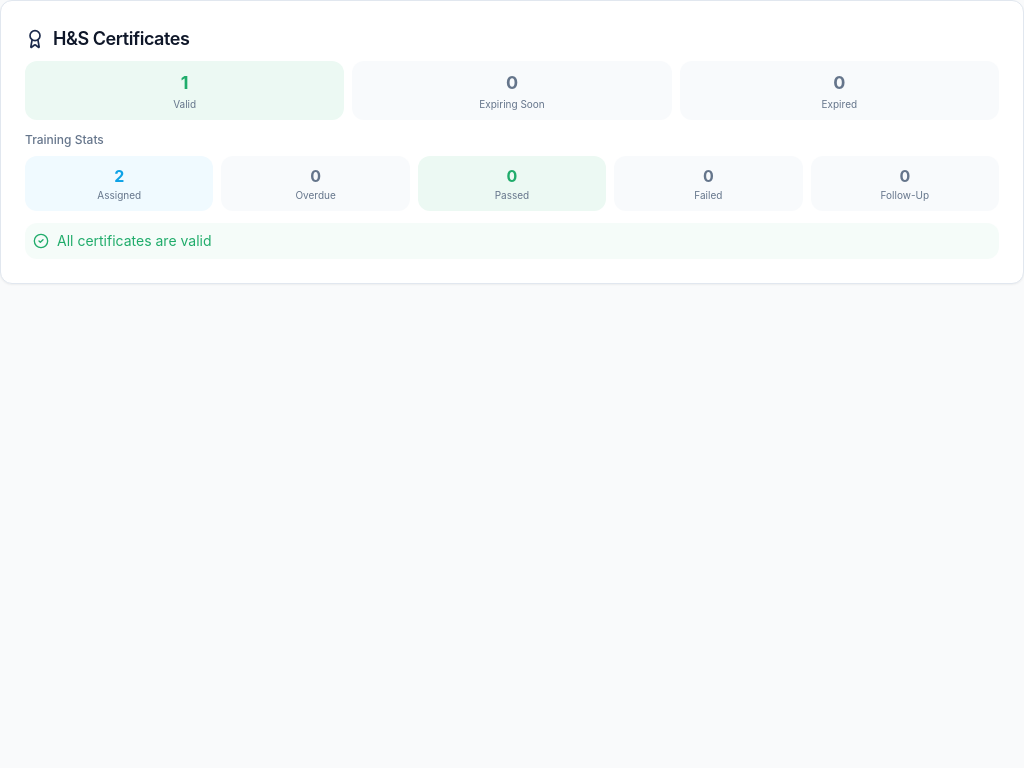
Scenario: CertificateExpiryWidget › shows all people in training stat drill-down for super admin
Click the button "2 Assigned" at (119, 184), box x1=25 y1=156 x2=213 y2=211
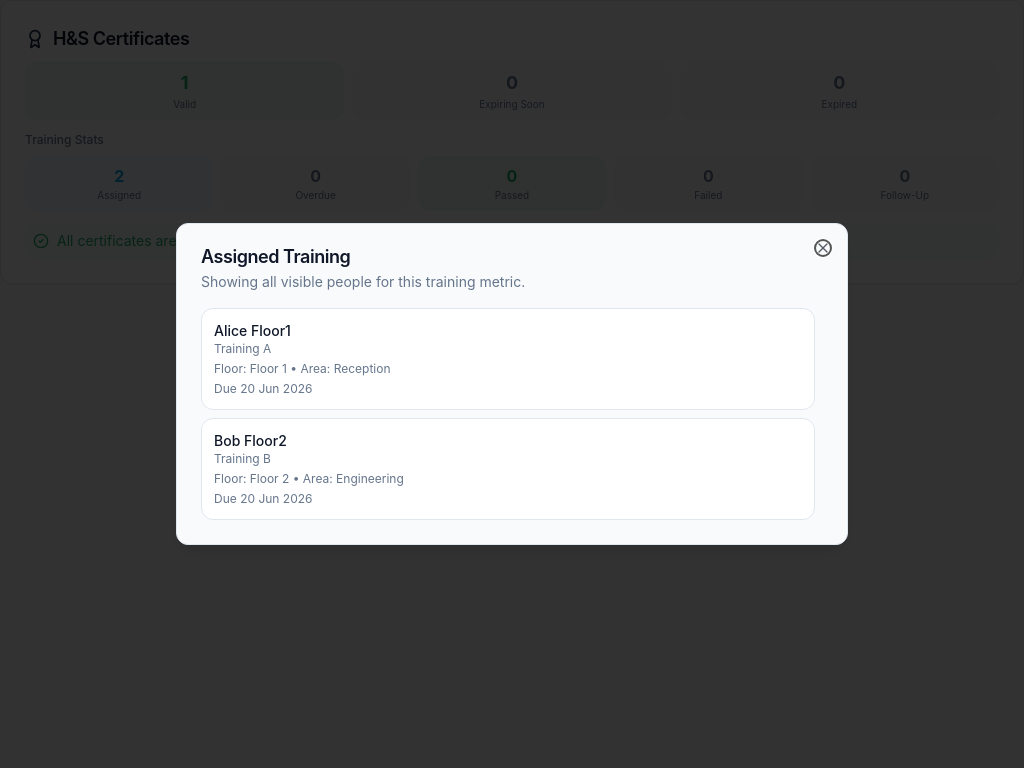
Check: the heading "Assigned Training" is shown, box x1=201 y1=246 x2=350 y2=267
Check: the text "Alice Floor1" is shown, box x1=214 y1=322 x2=291 y2=339
Check: the text "Bob Floor2" is shown, box x1=214 y1=432 x2=287 y2=449
